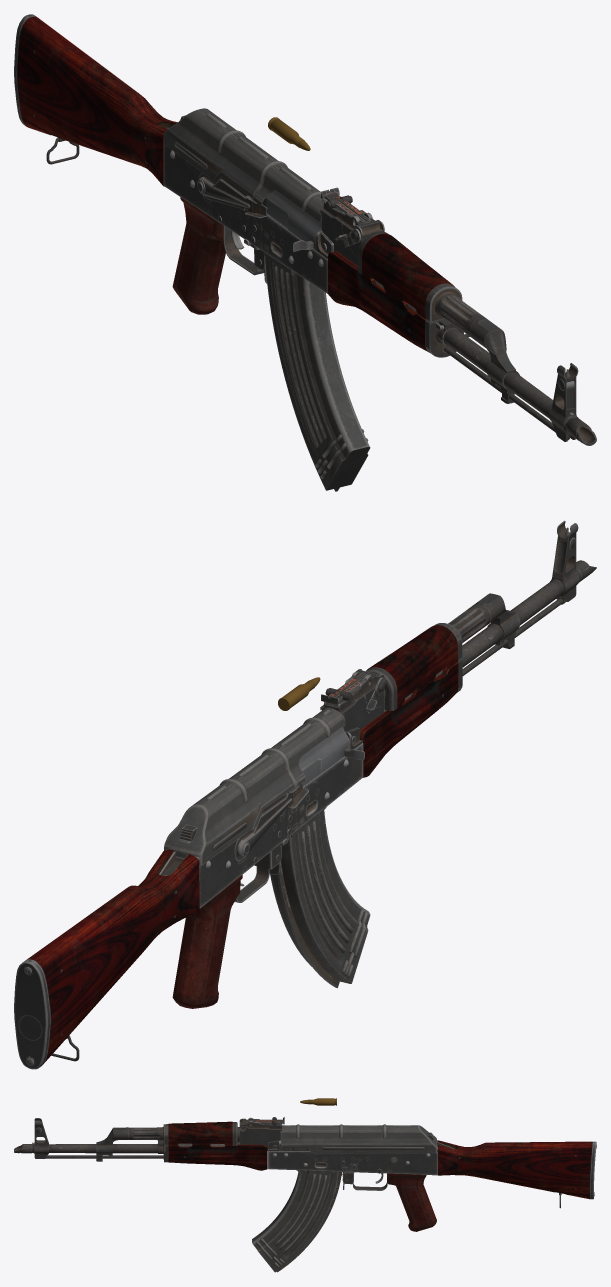
3 renders of one model, top to bottom at view 1: azimuth 30°, elevation 25°; view 2: azimuth 150°, elevation 25°; view 3: azimuth 270°, elevation 25°, orthographic. The views are drawn at different scales.
Parts seen in each view (by area): view 1: WPN_AKM, WPN_AKM_magazine, WPN_AKM_bolt_carrier, WPN_AKM_safetyswitch, WPN_AKM_rear_sight_leaf; view 2: WPN_AKM, WPN_AKM_magazine, WPN_AKM_bolt_carrier, WPN_AKM_safetyswitch; view 3: WPN_AKM, WPN_AKM_magazine.
Part boxes in pixels (x1,y1,x2,y2): WPN_AKM: (14, 14, 596, 445); WPN_AKM_magazine: (263, 252, 370, 491); WPN_AKM_bolt_carrier: (266, 190, 321, 251); WPN_AKM_safetyswitch: (197, 172, 267, 218); WPN_AKM_rear_sight_leaf: (321, 187, 370, 223); WPN_AKM: (14, 520, 596, 1069); WPN_AKM_magazine: (270, 807, 370, 988); WPN_AKM_bolt_carrier: (286, 727, 364, 793); WPN_AKM_safetyswitch: (234, 783, 308, 861); WPN_AKM: (14, 1117, 596, 1231); WPN_AKM_magazine: (252, 1170, 342, 1272).
Size of the model in its own units: 5.68 by 28.73 by 88.06.
2 materials, 1 textured.
